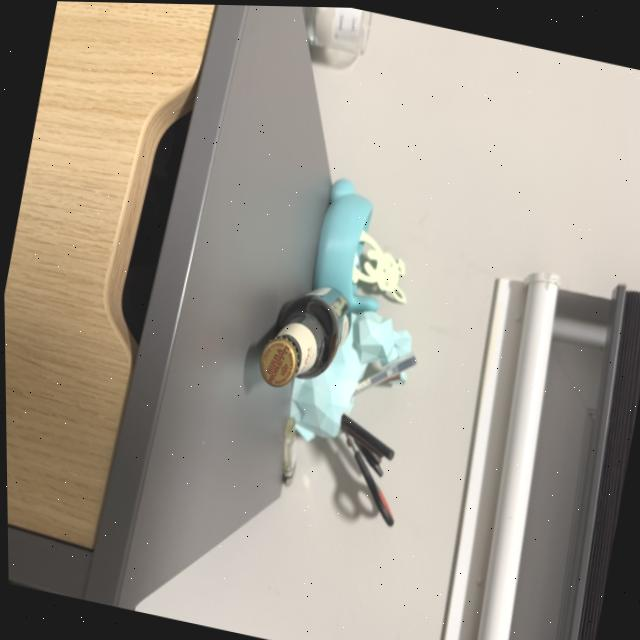beer: (243, 267, 363, 406)
